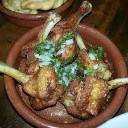chicken_lollipop: (37, 11, 106, 65), (65, 66, 128, 119), (1, 58, 62, 111)
